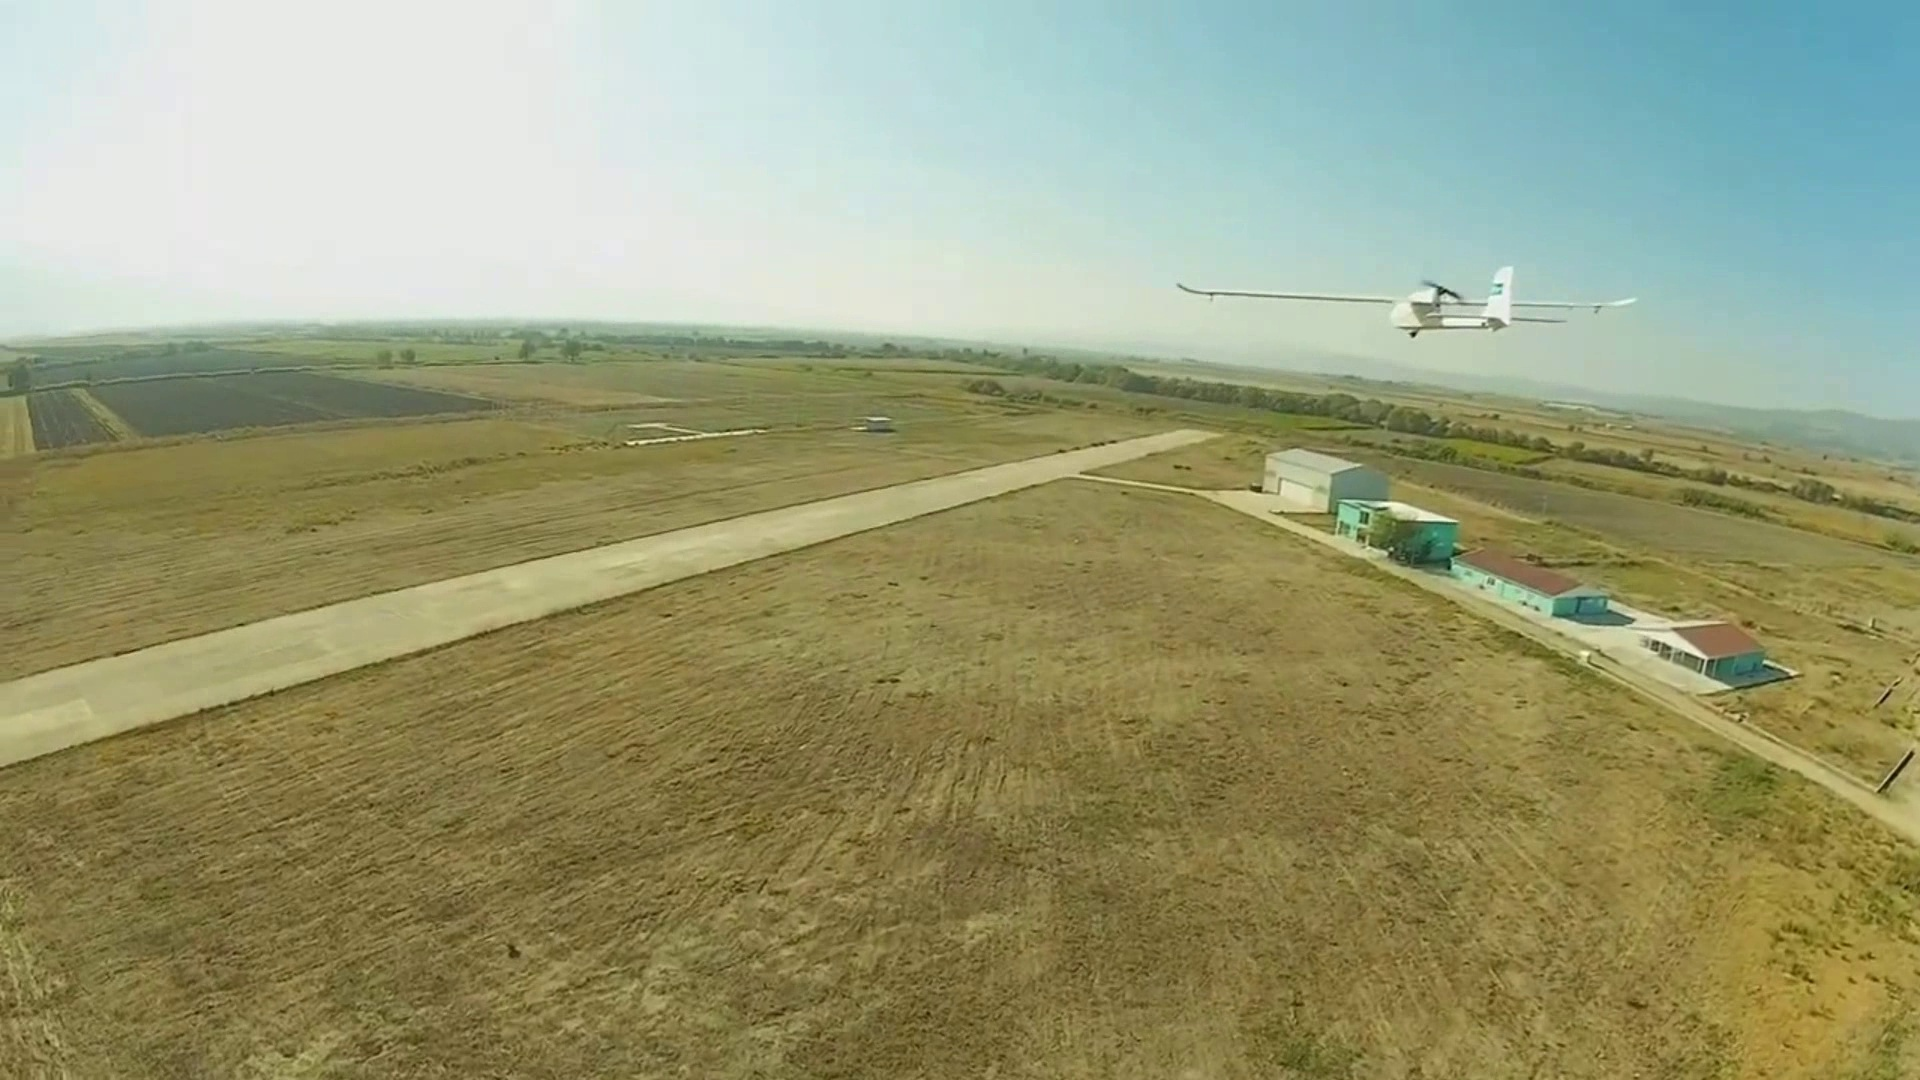airplane: (1175, 266, 1636, 338)
